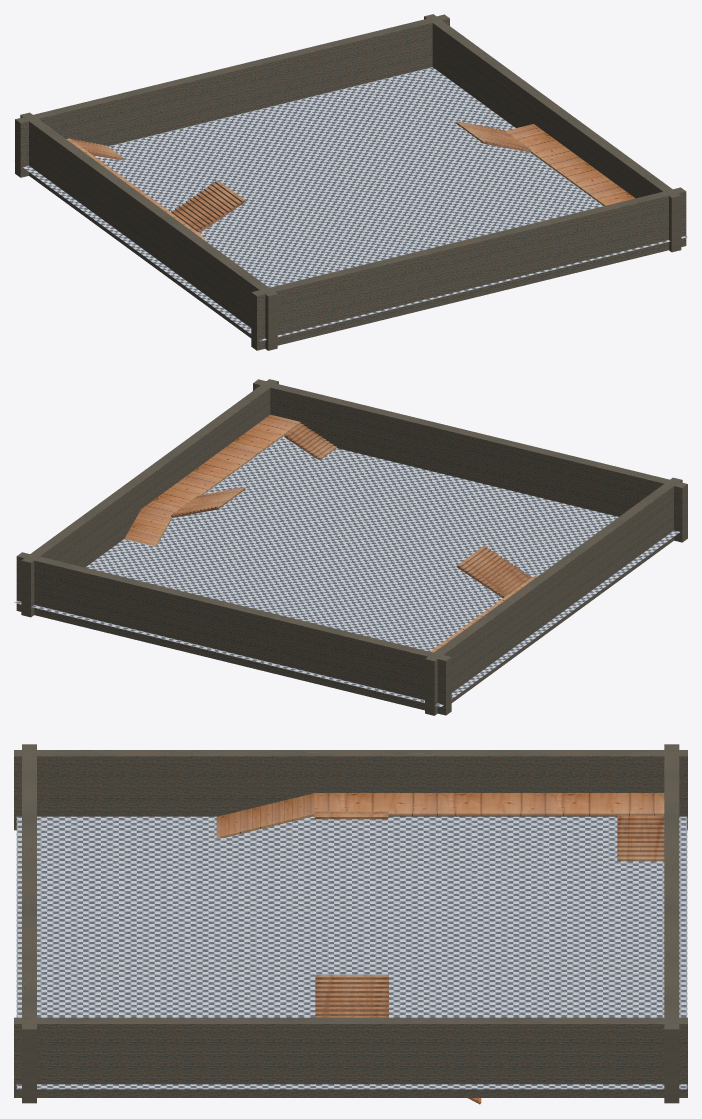
File: playerarena.fbx
3 views of the same model, one above another, from view 1: azimuth 30°, elevation 25°; view 2: azimuth 150°, elevation 25°; view 3: azimuth 270°, elevation 25° (orthographic). The views are drawn at different scales.
Visible parts, largest first — view 1: levelGeometry; view 2: levelGeometry; view 3: levelGeometry.
Boxes of the visible parts, box(x1,y1,x2,y2) form: levelGeometry: box(14, 14, 687, 350); levelGeometry: box(14, 379, 687, 715); levelGeometry: box(14, 744, 687, 1104).
Size of the model in its own units: 10211 by 10211 by 1452.
Materials: 4 (4 with a texture image).
